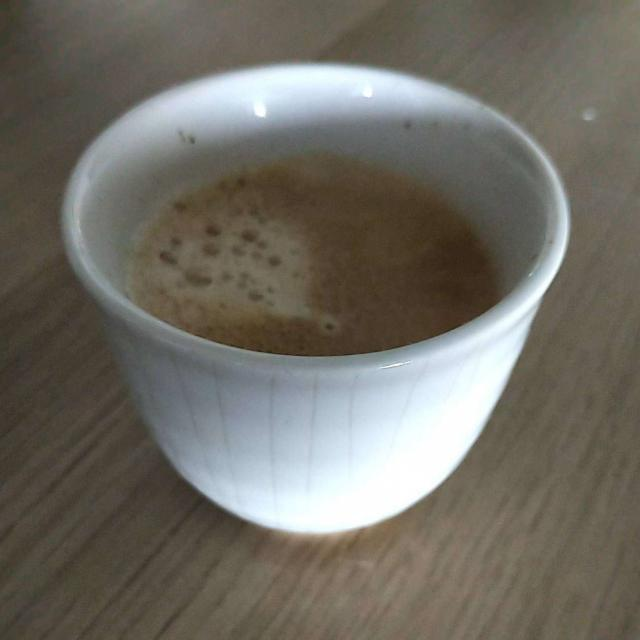coffee: (127, 154, 502, 352)
